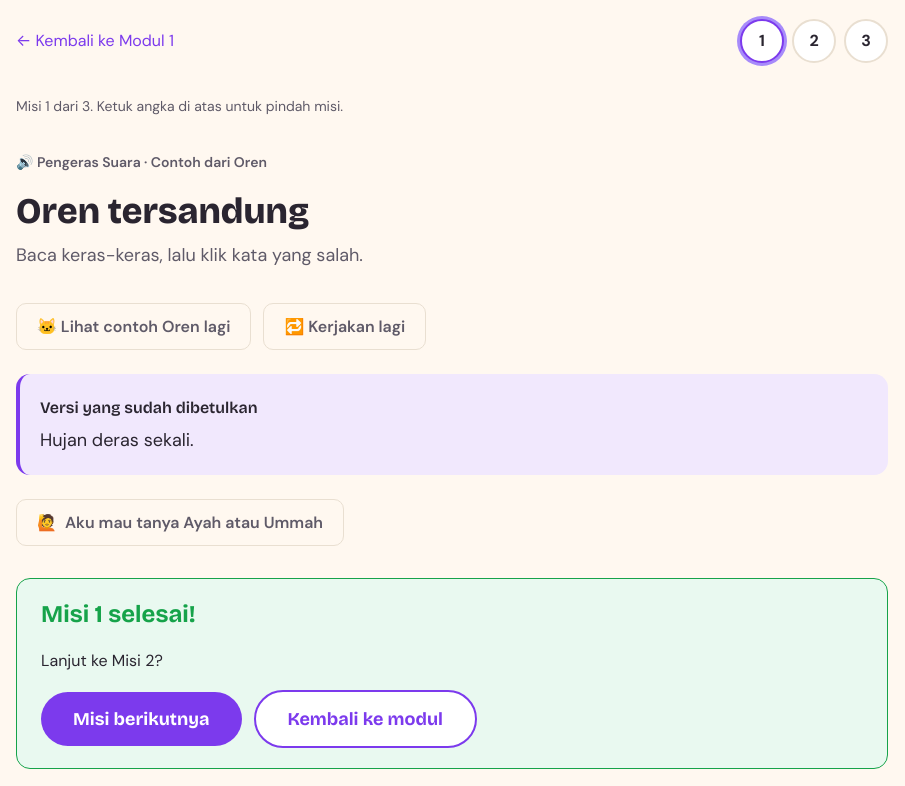
Test: Misi: Contoh dari Oren, bantuan memudar, dan suara (spec 075 K1) › misi yang sudah selesai: contoh Oren bisa dilihat lagi dan misinya dikerjakan lagi
The width and height of the screenshot is (905, 786).
Expected: the text "Hujan deras sekali." is shown, [40,428,194,452]
Click the button "🐱 Lihat contoh Oren lagi".
click(134, 326)  # box [16,303,252,350]
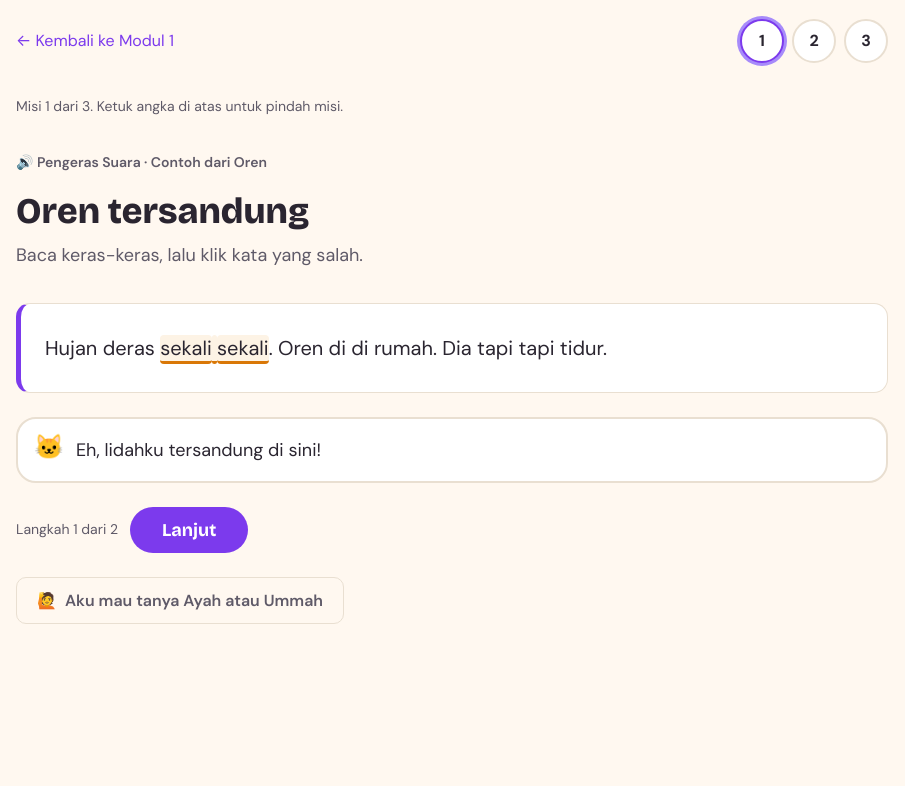
Expected: the text "Eh, lidahku tersandung di sini!" is shown, [76,435,321,465]
